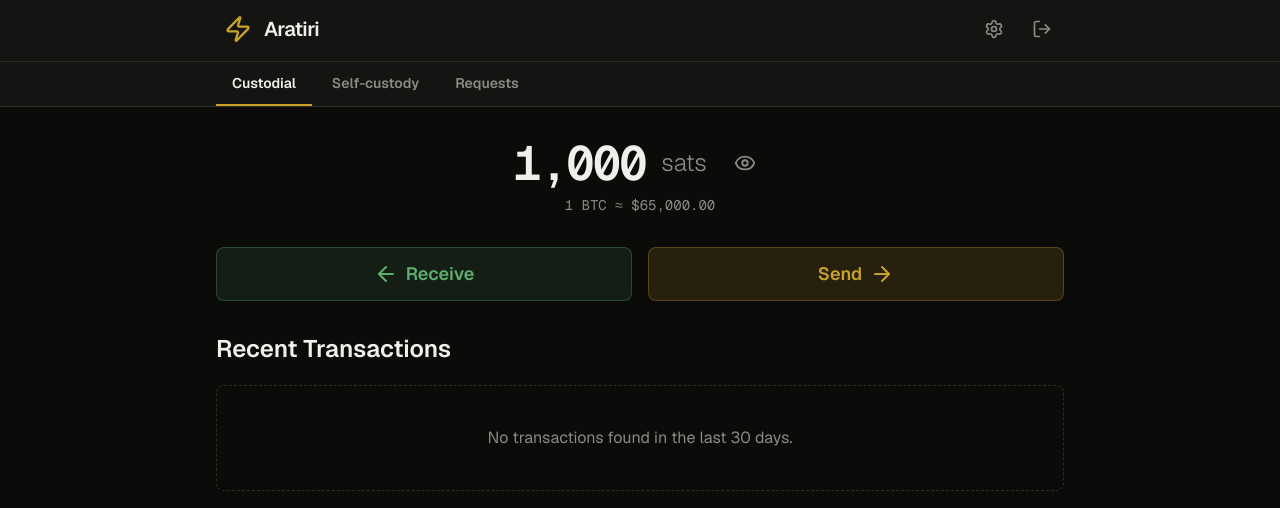
Test: Request Center authenticated flows › uses Hide/Show amounts on Requests and keeps Hide/Show balance on Custodial
Click the button "Requests" at (487, 84), box [439,62,535,106]
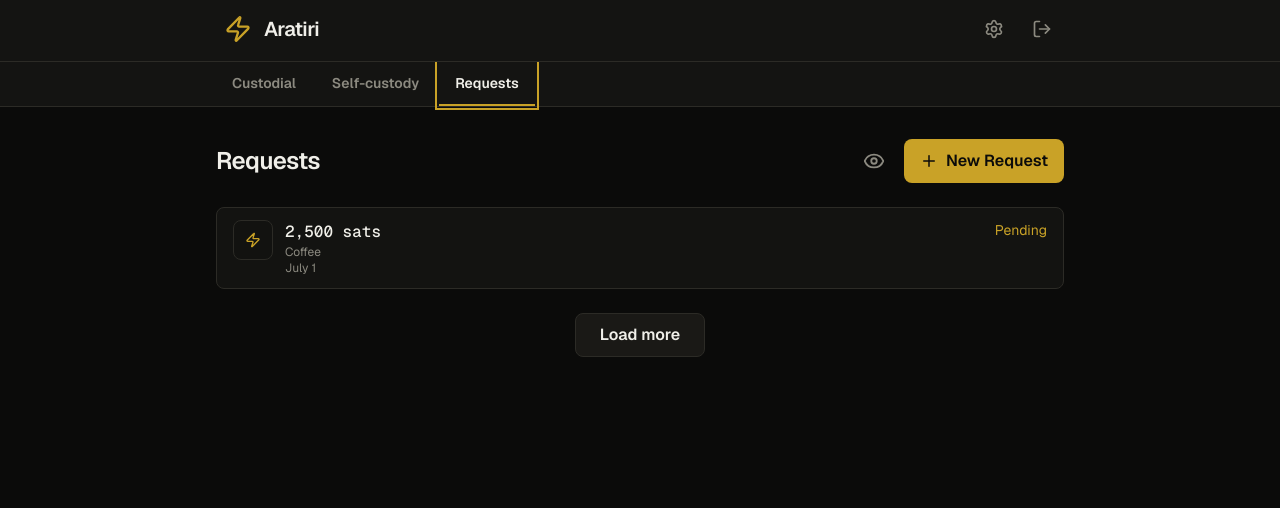
Now the heading "Requests" is shown, box [216,145,320,177]
Now the button named "Hide amounts" is shown, box [852,139,896,183]
Click the button "Custodial" at (264, 84), box [216,62,312,106]
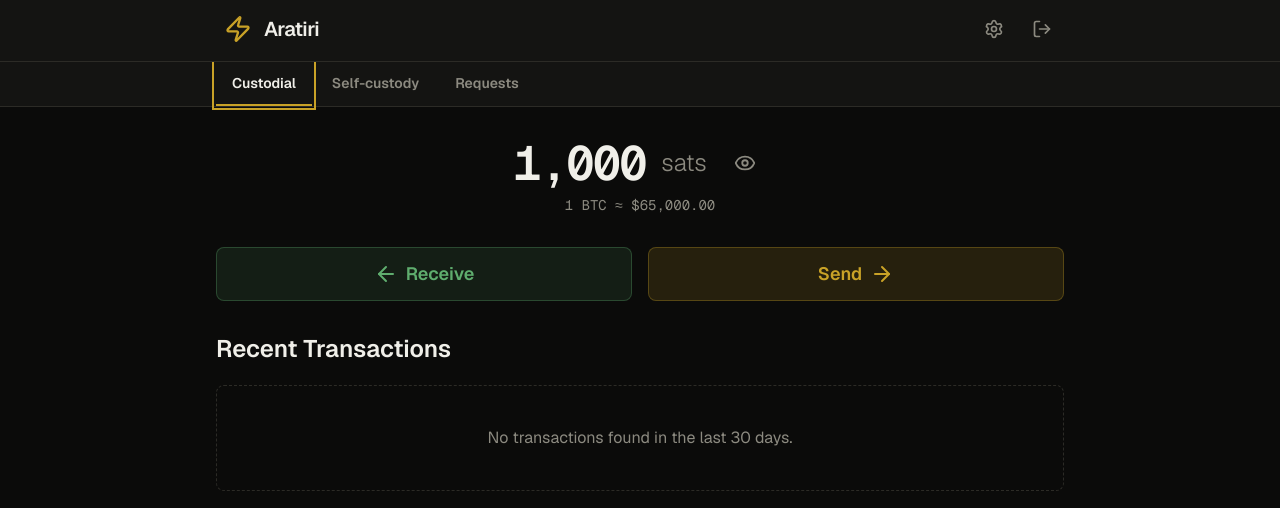
Now the button named "Hide balance" is shown, box [723,141,767,185]
